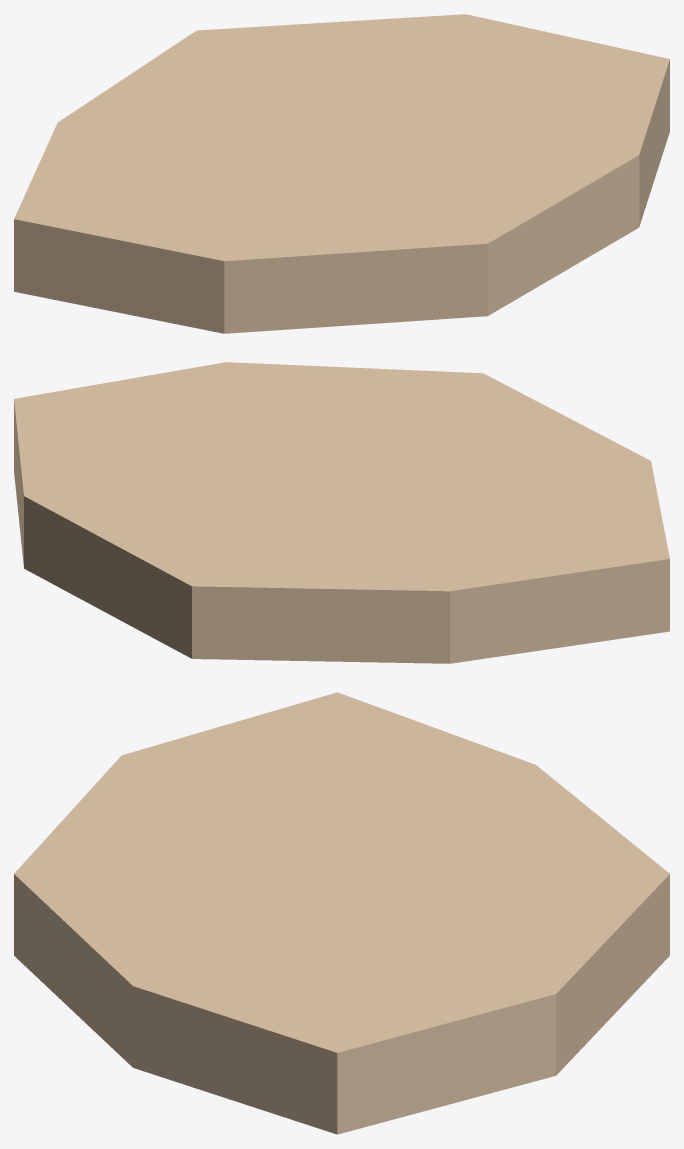
The model's file is stone_path_2.glb.
3 views of the same model, one above another, from view 1: azimuth 30°, elevation 25°; view 2: azimuth 150°, elevation 25°; view 3: azimuth 270°, elevation 25° (orthographic). The views are drawn at different scales.
Visible parts, largest first — view 1: stone_path_2; view 2: stone_path_2; view 3: stone_path_2.
Part boxes in pixels (x1,y1,x2,y2): stone_path_2: [14, 14, 669, 333]; stone_path_2: [14, 362, 669, 663]; stone_path_2: [14, 692, 669, 1134].
Bounding box in the file's own units: 1.04 × 0.11 × 0.7999.
